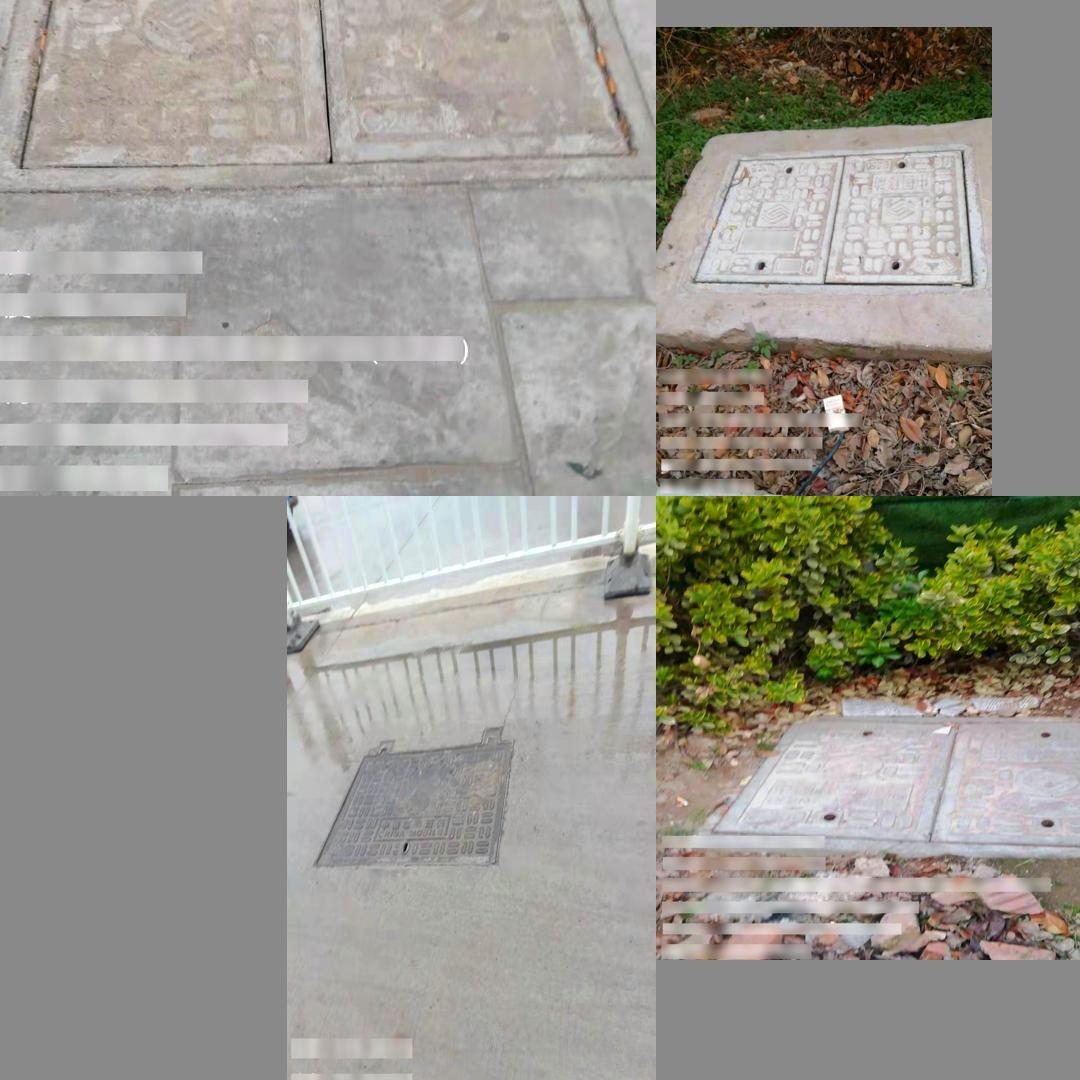good: (34, 0, 631, 156), (710, 716, 1080, 847), (719, 146, 980, 298), (314, 728, 515, 868)
